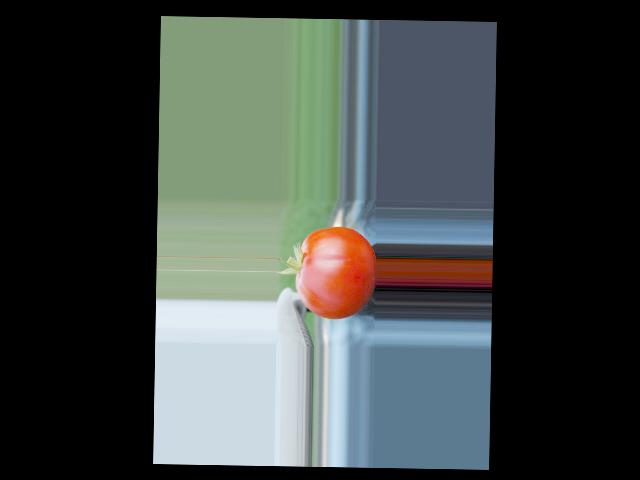tomato: (295, 225, 377, 319)
